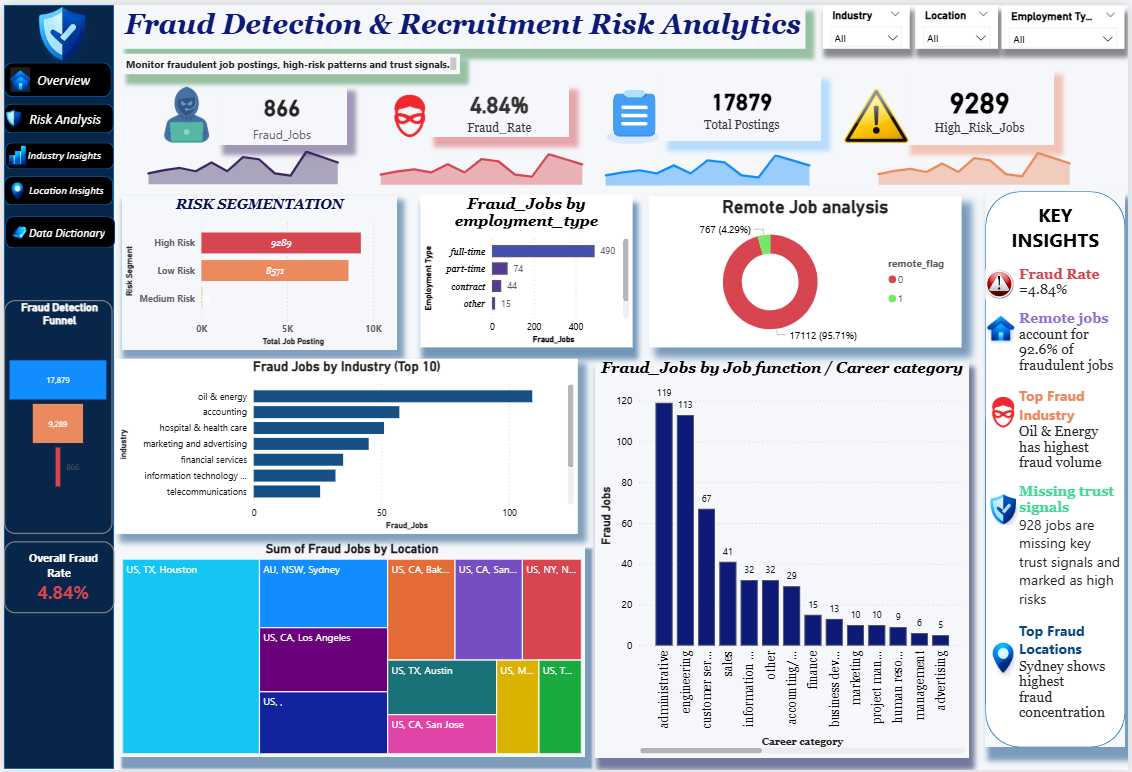

The page's visual inventory and layout, read from the dashboard file:
{"tool":"powerbi","page":{"name":"Dashboard","canvas":[1500,1200],"ordinal":0},"visuals":[{"type":"card","fields":{"Values":["CountNonNull(raw_dataset.job_id)"]},"box":[721.4,169.1,229.2,129.6],"z":0},{"type":"actionButton","box":[0,0,100,40],"z":1000},{"type":"card","fields":{"Values":["Explainability_Sheet.Fraud_Jobs"]},"box":[375.7,170.9,232.9,129.6],"z":2000},{"type":"card","fields":{"Values":["raw_dataset.Fraud_Rate"]},"box":[18.8,170.9,232.9,131.5],"z":3000},{"type":"card","fields":{"Values":["Explainability_Sheet.High_Risk_Jobs"]},"box":[1112,170,244,130],"z":4000},{"type":"clusteredBarChart","title":"Fraud_Jobs by Industry - Top 10","fields":{"Category":["raw_dataset.industry"],"Y":["Explainability_Sheet.Fraud_Jobs"]},"box":[11.3,901.7,565.4,298.7],"z":5000},{"type":"donutChart","title":"REMOTE JOB ANALYSIS","fields":{"Category":["raw_dataset.remote_flag"],"Y":["Explainability_Sheet.Fraud_Jobs"]},"box":[7.5,610.5,511,276.1],"z":6000},{"type":"pieChart","title":"RISK SEGMENTATION","fields":{"Category":["raw_dataset.risk_segment"],"Y":["CountNonNull(raw_dataset.job_id)"]},"box":[7.5,326.9,511,272.4],"z":7000},{"type":"columnChart","title":"TRUST SIGNAL ANALYSIS","fields":{"Category":["raw_dataset.logo_missing_flag"],"Y":["Explainability_Sheet.Fraud_Jobs"]},"box":[884.8,636.8,338.1,225.4],"z":8000},{"type":"textbox","box":[270,0,994,152],"z":9000},{"type":"clusteredBarChart","fields":{"Category":["raw_dataset.employment_type"],"Y":["Explainability_Sheet.Fraud_Jobs"]},"box":[539.1,358.8,321.2,503.4],"z":10000},{"type":"clusteredColumnChart","title":"Fraud_Jobs by Job function / Career category","fields":{"Category":["raw_dataset.function"],"Y":["Explainability_Sheet.Fraud_Jobs"]},"box":[884.8,326.9,612.4,310],"z":11000},{"type":"funnel","title":"Job Postings by location","fields":{"Y":["Count(Explainability_Sheet.job_id)"],"Category":["raw_dataset.location"]},"box":[1236,652,240,548],"z":12000},{"type":"treemap","fields":{"Values":["Sum(raw_dataset.fraudulent)"],"Details":["raw_dataset.location"]},"box":[608,882,614,318],"z":13000}]}

Visuals, with their boxes on the page's 1500x1200 design canvas (x1, y1, x2, y2). These are canvas units, not pixel positions in the 1132x772 screenshot, which may show the page scaled, cropped or inside an application window:
card - CountNonNull(raw_dataset.job_id): BBox(721, 169, 951, 299)
actionButton: BBox(0, 0, 100, 40)
card - Explainability_Sheet.Fraud_Jobs: BBox(376, 171, 609, 300)
card - raw_dataset.Fraud_Rate: BBox(19, 171, 252, 302)
card - Explainability_Sheet.High_Risk_Jobs: BBox(1112, 170, 1356, 300)
"Fraud_Jobs by Industry - Top 10" clusteredBarChart: BBox(11, 902, 577, 1200)
"REMOTE JOB ANALYSIS" donutChart: BBox(8, 610, 518, 887)
"RISK SEGMENTATION" pieChart: BBox(8, 327, 518, 599)
"TRUST SIGNAL ANALYSIS" columnChart: BBox(885, 637, 1223, 862)
textbox: BBox(270, 0, 1264, 152)
clusteredBarChart - raw_dataset.employment_type x Explainability_Sheet.Fraud_Jobs: BBox(539, 359, 860, 862)
"Fraud_Jobs by Job function / Career category" clusteredColumnChart: BBox(885, 327, 1497, 637)
"Job Postings by location" funnel: BBox(1236, 652, 1476, 1200)
treemap - Sum(raw_dataset.fraudulent) x raw_dataset.location: BBox(608, 882, 1222, 1200)
